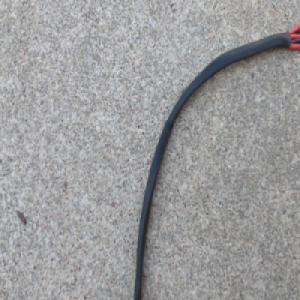Wire: (131, 16, 300, 300)
